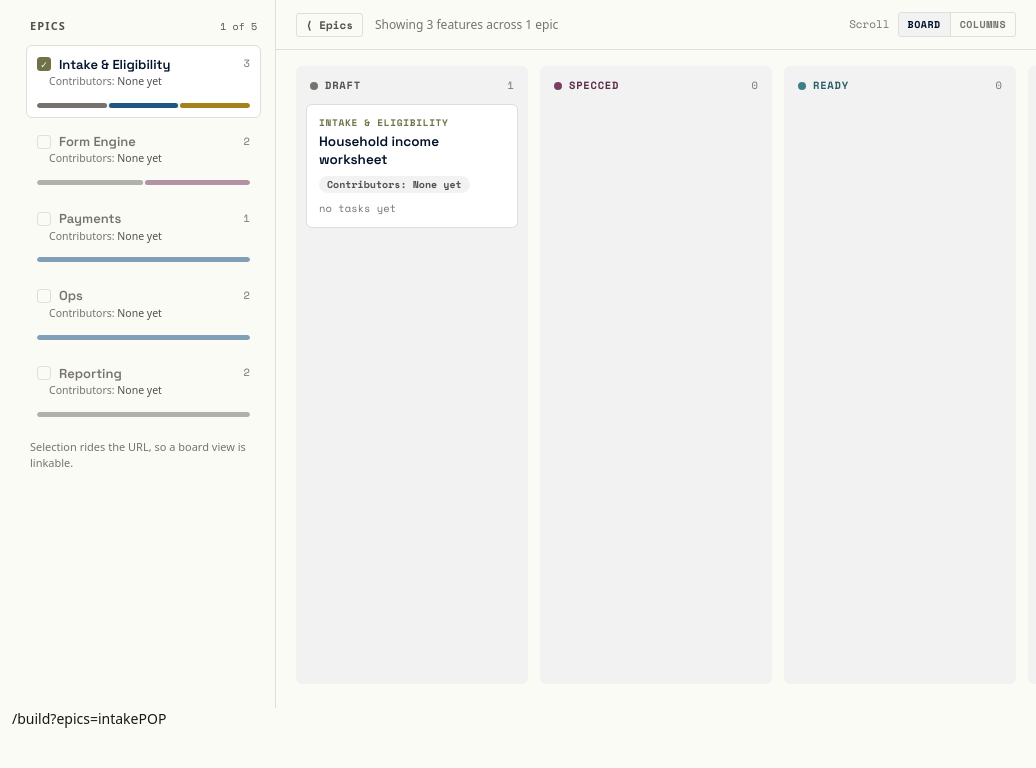
Build selection: the four URL cases › a selection change replaces the URL rather than pushing a history entry
Expected: the text "Household income worksheet" is shown, [319,133,439,168]
Click the button "Form Engine 2" at (144, 142), box [37,132,250,151]
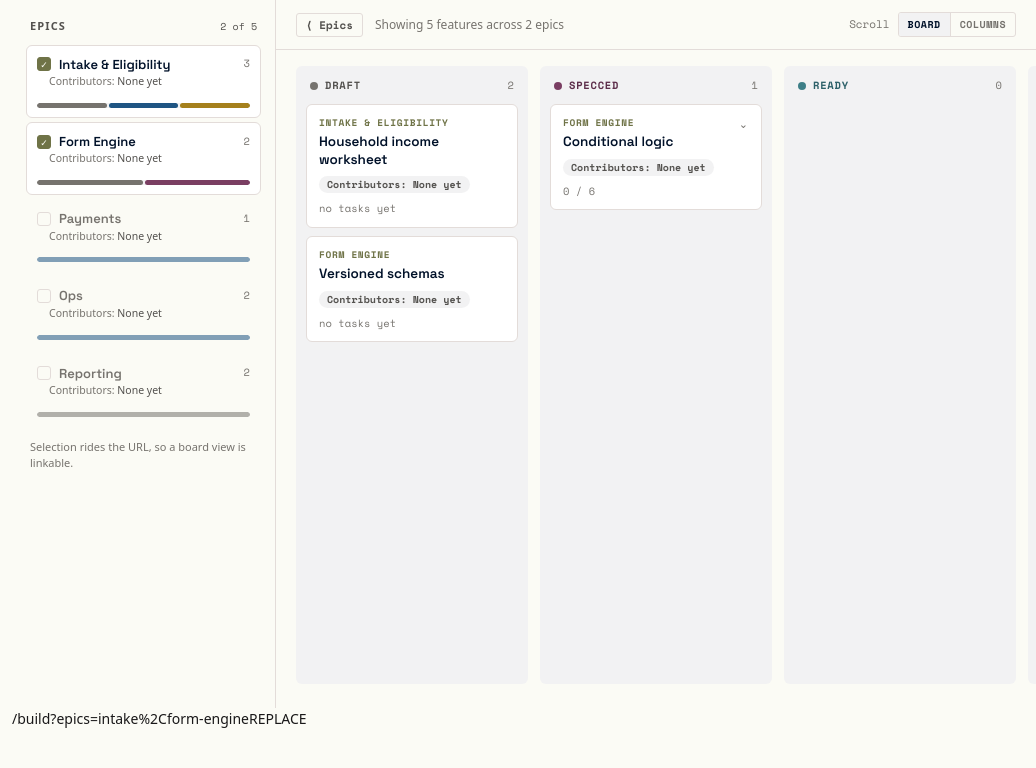
Expected: the text with test id "loc" shows "epics=intake%2Cform-engine", [12,709,249,728]
Expected: the text with test id "navtype" reads "REPLACE", [249,709,307,728]
